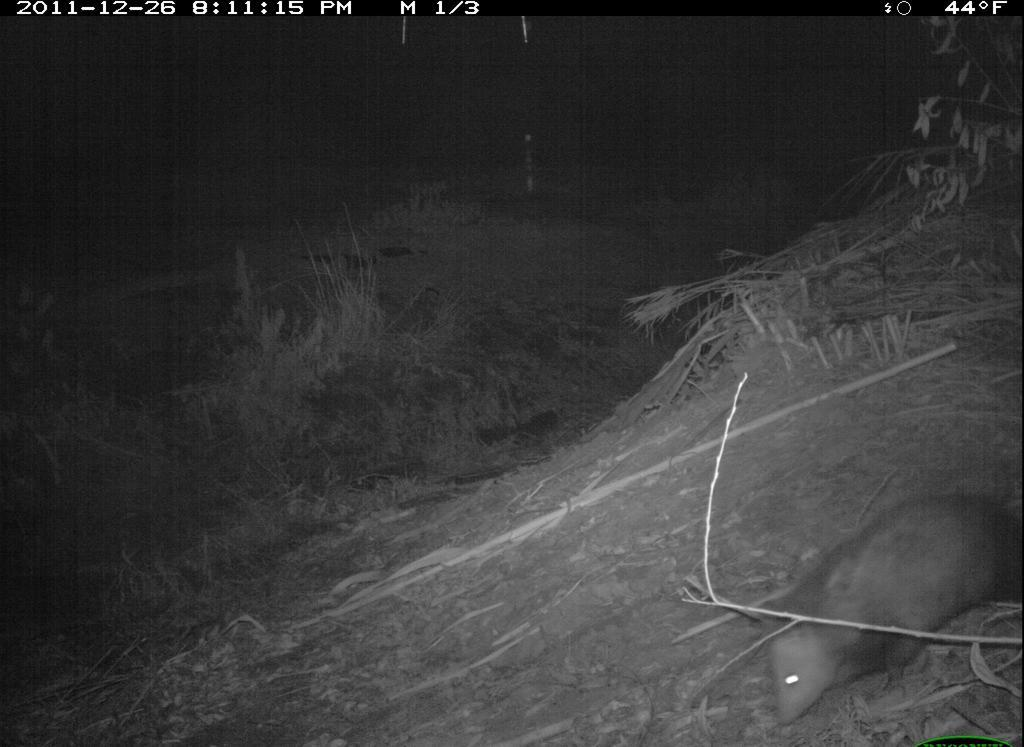opossum: (726, 474, 1022, 717)
